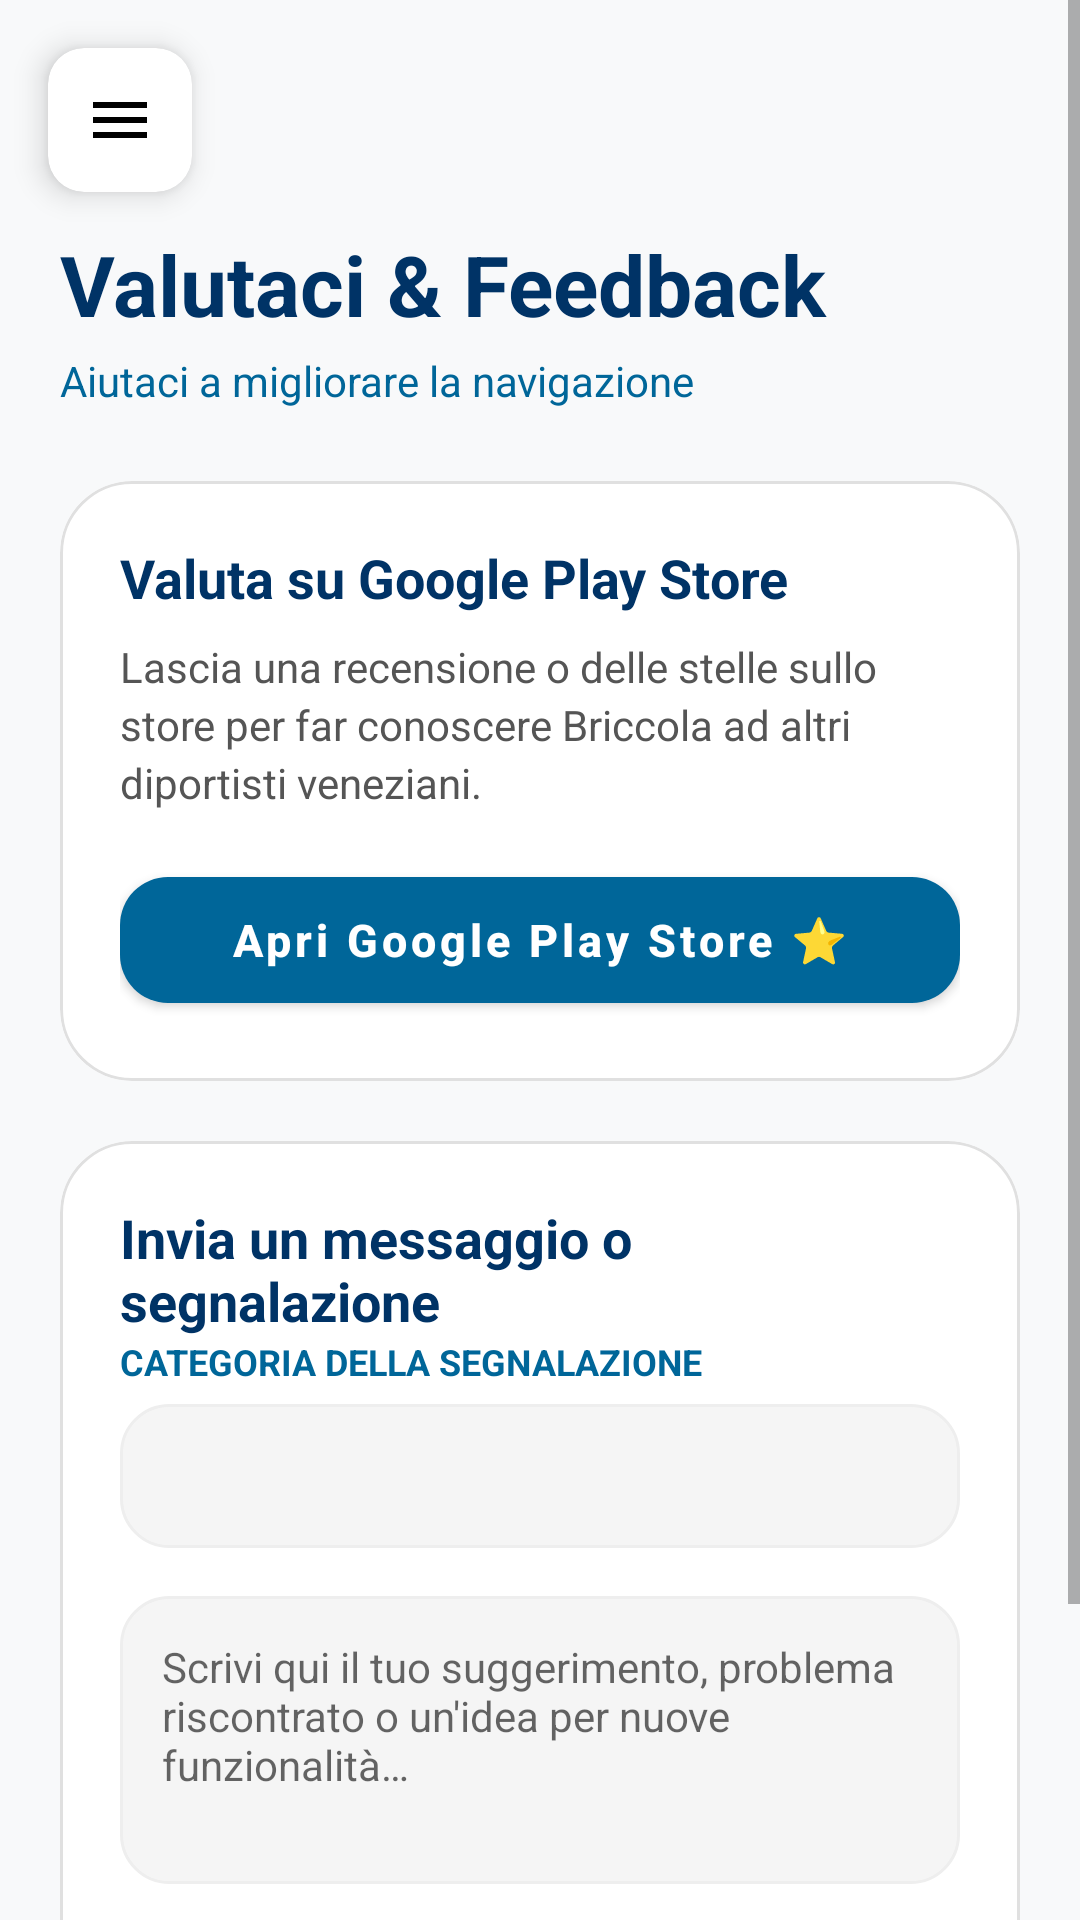

Locate icon controls on the screen. Image size 1080*1920, boxes as (left=x1, top=y1, right=x2, bottom=y2).
Apri Menu: (left=93, top=102, right=147, bottom=138)
